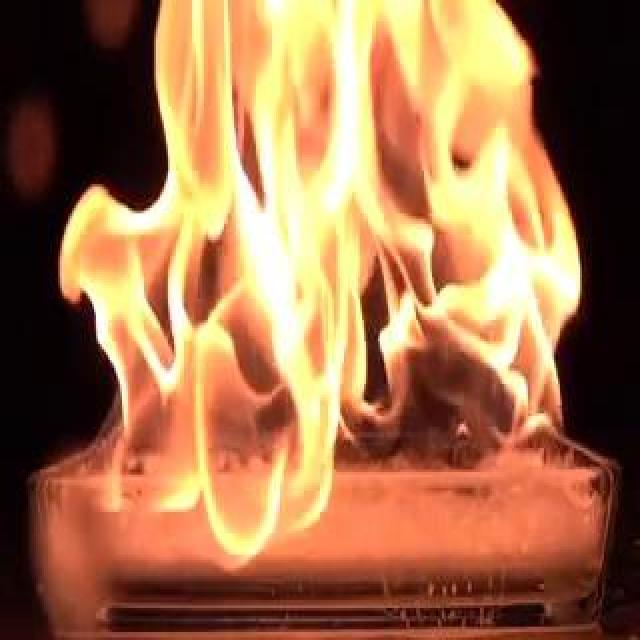Fire: (6, 3, 546, 549)
